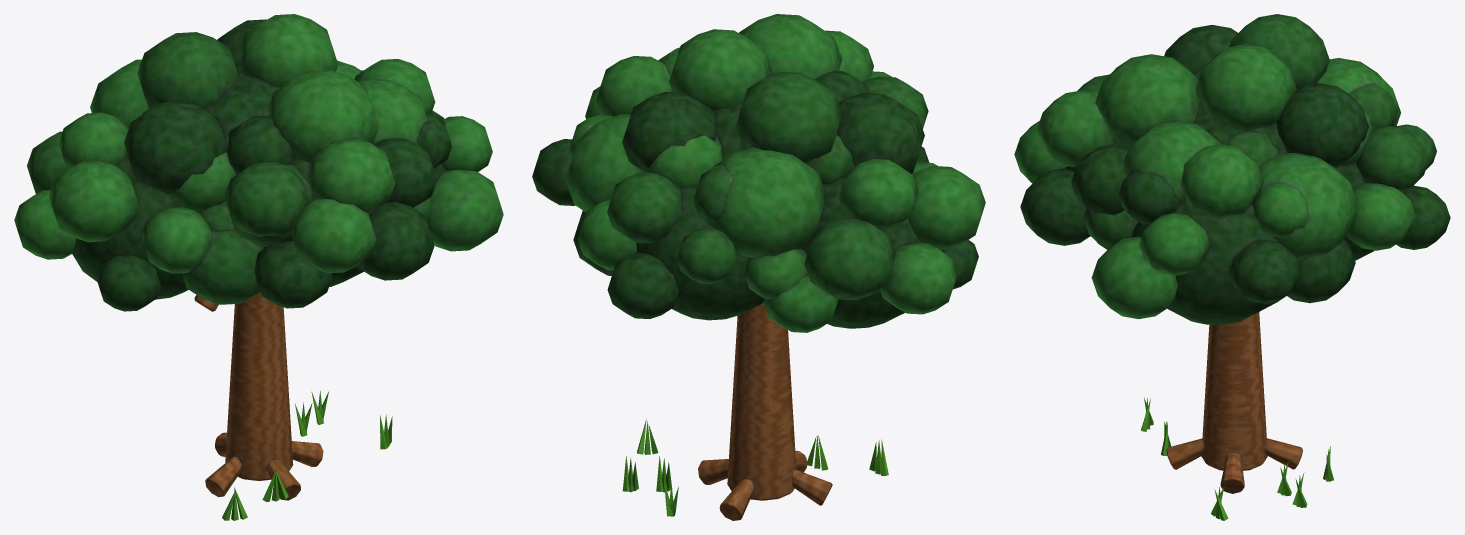
Rendered from loquat_tree.glb.
The picture shows the model from 3 angles, left to right: view 1: azimuth 30°, elevation 25°; view 2: azimuth 150°, elevation 25°; view 3: azimuth 270°, elevation 25°; orthographic projection. The views are drawn at different scales.
Visible parts, largest first — view 1: crown, loquat_tree; view 2: crown, loquat_tree; view 3: crown, loquat_tree.
Boxes of the visible parts, bbox=[...] form: crown: bbox=[14, 14, 503, 311]; loquat_tree: bbox=[194, 292, 392, 520]; crown: bbox=[532, 14, 985, 332]; loquat_tree: bbox=[622, 303, 888, 520]; crown: bbox=[1014, 14, 1450, 324]; loquat_tree: bbox=[1141, 312, 1333, 520].
Size of the model in its own units: 1.21 by 1.23 by 1.12.
1 material, 1 textured.
